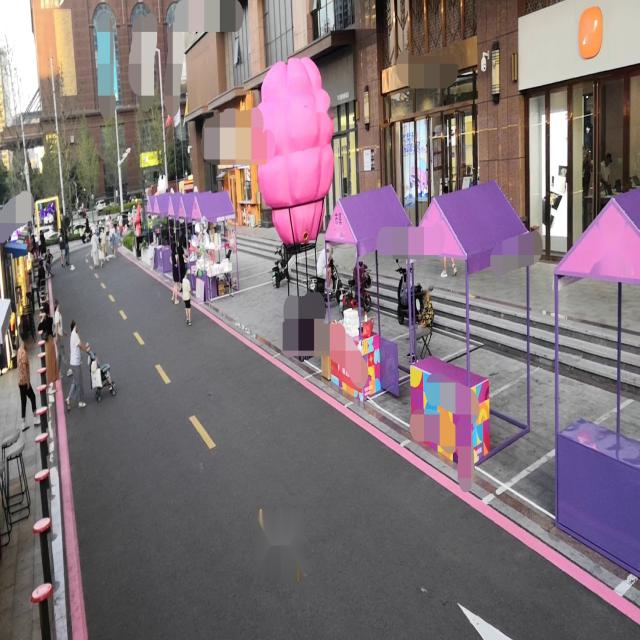fixed_stall: (188, 214, 235, 276), (318, 305, 378, 343)
sunshade: (405, 180, 531, 273), (553, 186, 638, 289), (324, 182, 412, 255), (191, 189, 235, 223), (178, 189, 212, 223), (167, 191, 197, 218), (153, 192, 180, 214), (4, 240, 28, 255), (18, 224, 30, 242), (146, 194, 156, 214)
